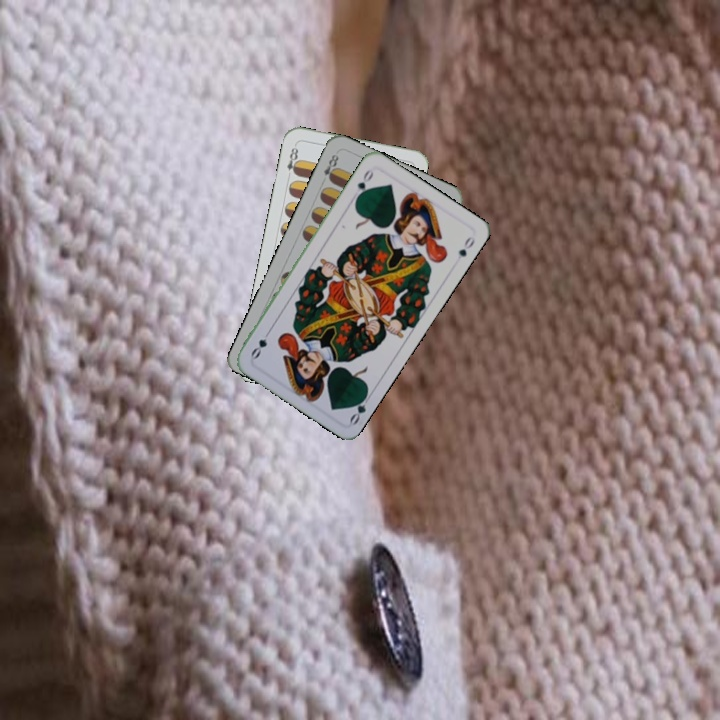E8: (283, 141, 302, 181), (319, 150, 341, 184)
GO: (346, 388, 375, 427), (352, 165, 376, 202)
